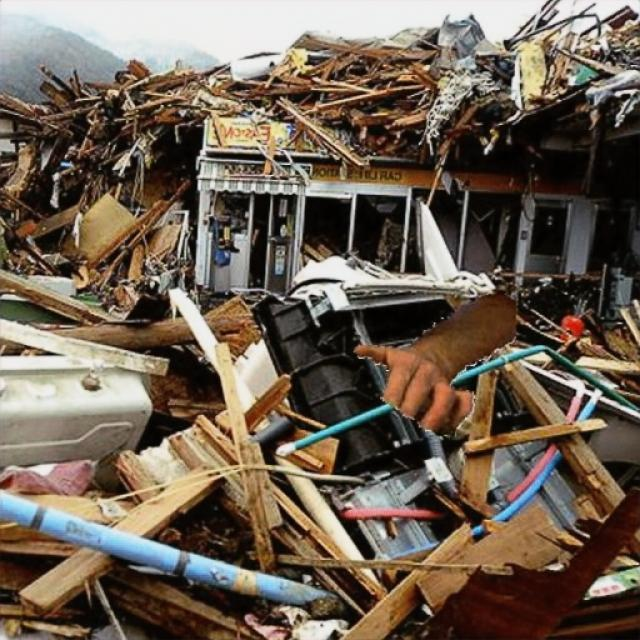Person in Rubble: (354, 292, 515, 436)
